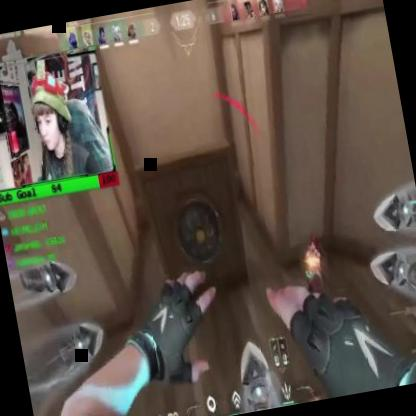enemy: (296, 232, 328, 300)
enemy_head: (309, 233, 318, 251)
